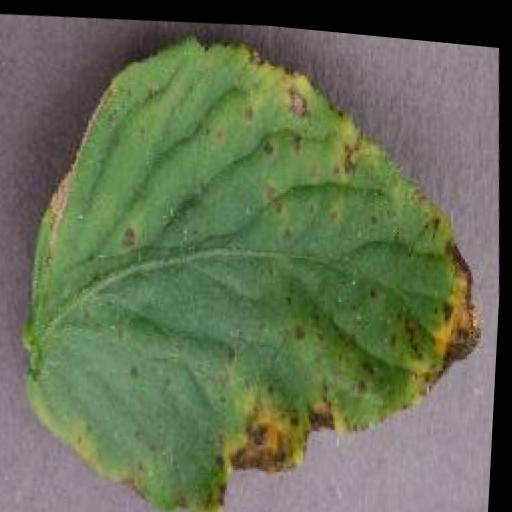Bacterial Spot: (0, 1, 508, 512)
